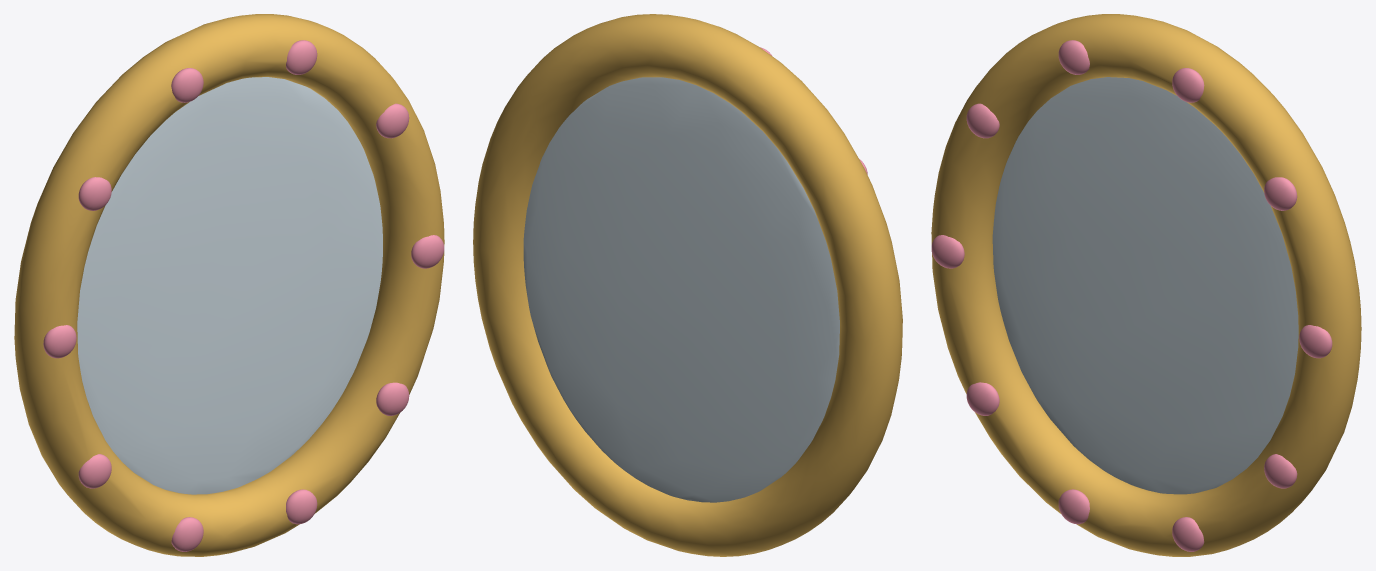
Rendered from deco_espejo.glb.
The picture shows the model from 3 angles, left to right: view 1: azimuth 30°, elevation 25°; view 2: azimuth 150°, elevation 25°; view 3: azimuth 330°, elevation 25°; orthographic projection.
Visible parts, largest first — view 1: espejo.001, marco espejo.001, florcita espejo 4.001, florcita espejo 3.001, florcita espejo 5.001, florcita espejo 8.001, florcita espejo 9.001, florcita espejo 0.001, florcita espejo 6.001, florcita espejo 1.001, florcita espejo 2.001, florcita espejo 7.001; view 2: espejo.001, marco espejo.001; view 3: espejo.001, marco espejo.001, florcita espejo 1.001, florcita espejo 2.001, florcita espejo 6.001, florcita espejo 7.001, florcita espejo 0.001, florcita espejo 5.001, florcita espejo 4.001, florcita espejo 3.001, florcita espejo 8.001, florcita espejo 9.001.
Boxes of the visible parts, <box> form: espejo.001: <box>77,77,382,494</box>; marco espejo.001: <box>14,14,444,556</box>; florcita espejo 4.001: <box>78,177,111,210</box>; florcita espejo 3.001: <box>171,68,203,102</box>; florcita espejo 5.001: <box>43,325,76,358</box>; florcita espejo 8.001: <box>286,489,317,524</box>; florcita espejo 9.001: <box>376,382,409,415</box>; florcita espejo 0.001: <box>411,235,444,268</box>; florcita espejo 6.001: <box>78,454,111,488</box>; florcita espejo 1.001: <box>376,103,409,138</box>; florcita espejo 2.001: <box>286,40,317,74</box>; florcita espejo 7.001: <box>171,517,203,551</box>; espejo.001: <box>523,77,839,502</box>; marco espejo.001: <box>473,14,902,556</box>; espejo.001: <box>992,77,1298,494</box>; marco espejo.001: <box>931,14,1361,556</box>; florcita espejo 1.001: <box>1264,177,1297,210</box>; florcita espejo 2.001: <box>1172,68,1204,102</box>; florcita espejo 6.001: <box>966,382,999,415</box>; florcita espejo 7.001: <box>1058,489,1089,524</box>; florcita espejo 0.001: <box>1299,325,1332,358</box>; florcita espejo 5.001: <box>931,235,964,268</box>; florcita espejo 4.001: <box>966,103,999,138</box>; florcita espejo 3.001: <box>1058,40,1089,74</box>; florcita espejo 8.001: <box>1172,517,1204,551</box>; florcita espejo 9.001: <box>1264,454,1297,488</box>.
Bounding box in the file's own units: 0.5051 × 0.6049 × 0.0724.
